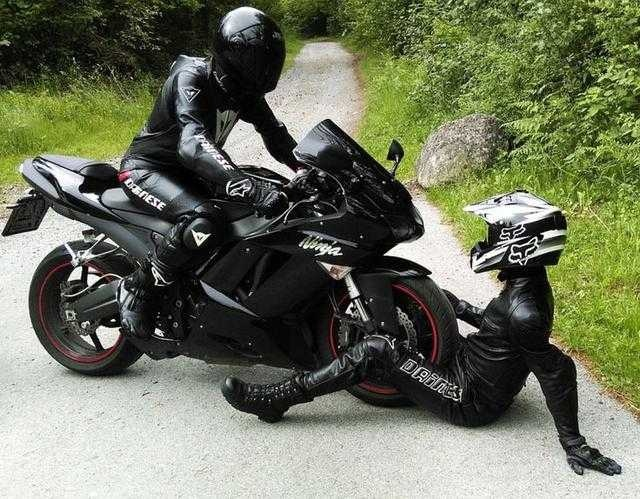motorbike: (1, 119, 457, 409)
